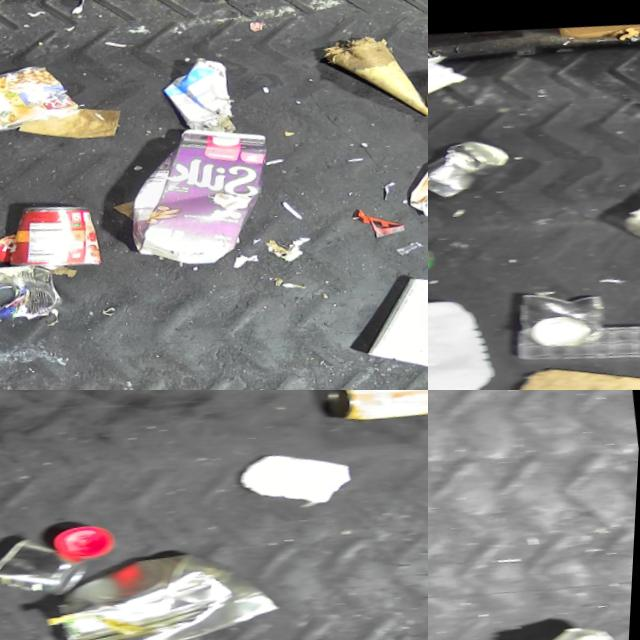can: (47, 519, 294, 640), (4, 191, 110, 276), (0, 522, 96, 605), (428, 124, 519, 210), (0, 52, 86, 138), (521, 278, 615, 352), (0, 250, 72, 328), (325, 390, 428, 421), (129, 621, 236, 640)
milk_jug: (428, 282, 512, 390)
non_white_jug: (114, 105, 287, 273)
